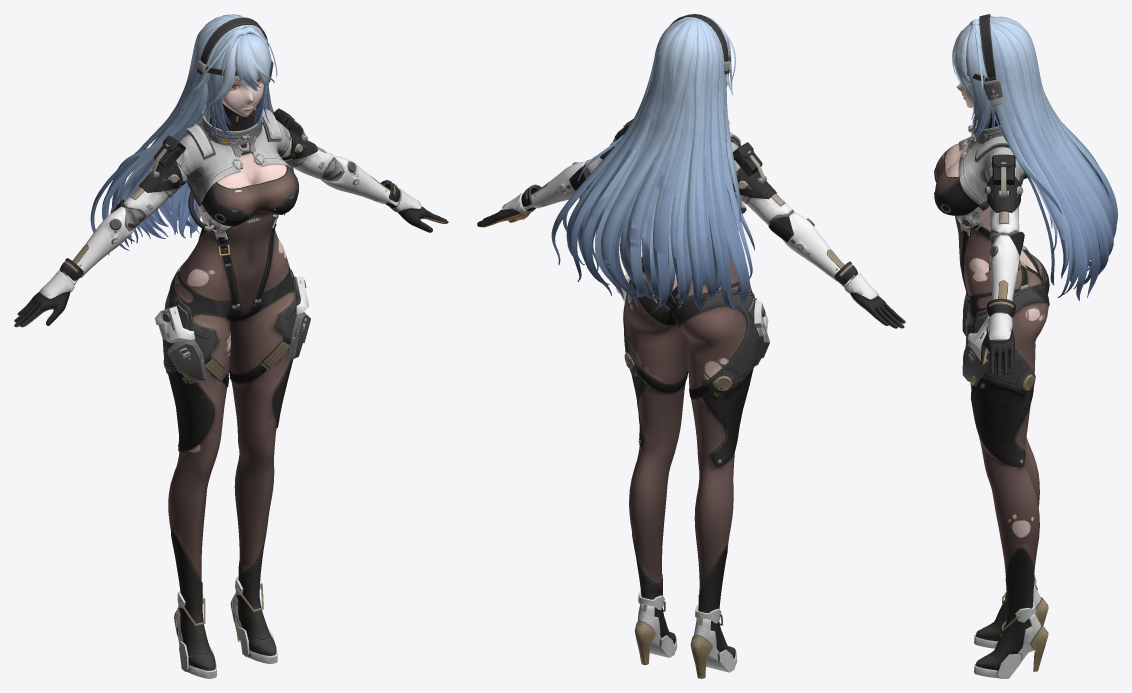
Rendered from lyfe_bestla_snowbreak.glb.
3 views of the same model, side by side, from view 1: azimuth 30°, elevation 25°; view 2: azimuth 150°, elevation 25°; view 3: azimuth 270°, elevation 25° (orthographic).
Size of the model in its own units: 4.99 by 7.14 by 1.86.
7 materials, 5 textured.
